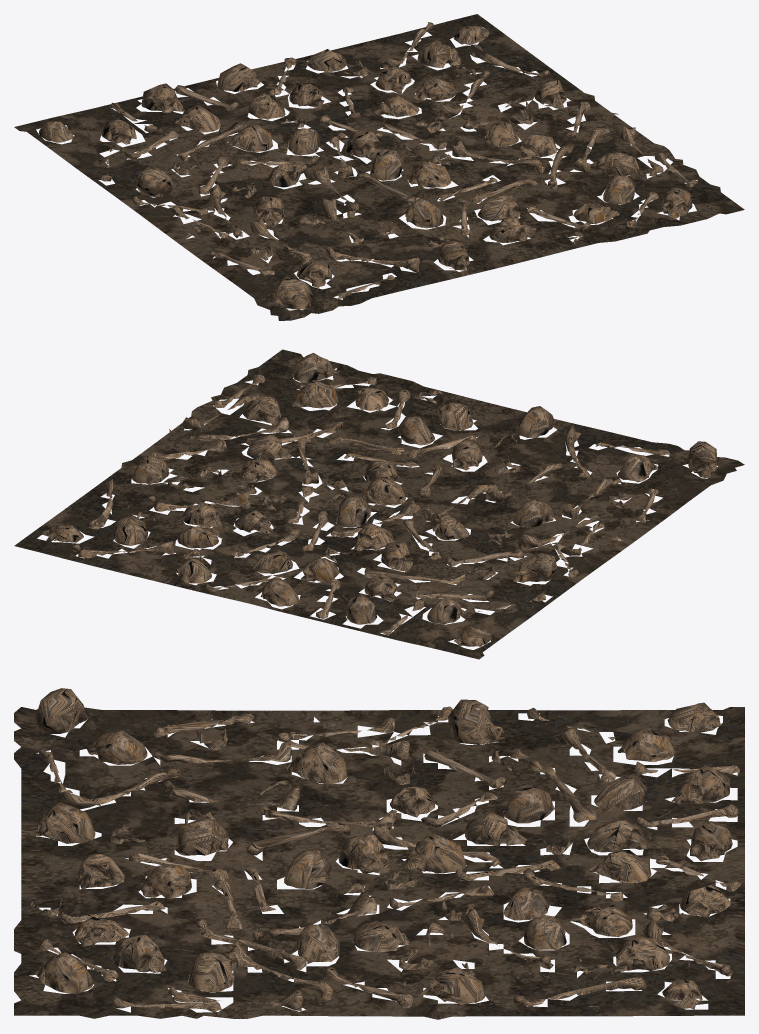
The model's file is ground.glb.
The picture shows the model from 3 angles, top to bottom: view 1: azimuth 30°, elevation 25°; view 2: azimuth 150°, elevation 25°; view 3: azimuth 270°, elevation 25°; orthographic projection. The views are drawn at different scales.
Parts seen in each view (by area): view 1: BonesAndGround_Ground_0, BonesAndGround_Bones_0; view 2: BonesAndGround_Ground_0, BonesAndGround_Bones_0; view 3: BonesAndGround_Ground_0, BonesAndGround_Bones_0.
Boxes of the visible parts, box(x1,y1,x2,y2) form: BonesAndGround_Ground_0: box(14, 14, 744, 320); BonesAndGround_Bones_0: box(38, 22, 698, 309); BonesAndGround_Ground_0: box(14, 349, 744, 659); BonesAndGround_Bones_0: box(41, 353, 717, 646); BonesAndGround_Ground_0: box(14, 707, 744, 1019); BonesAndGround_Bones_0: box(31, 688, 741, 1012).
Size of the model in its own units: 200 by 10.54 by 198.
2 materials, 2 textured.
